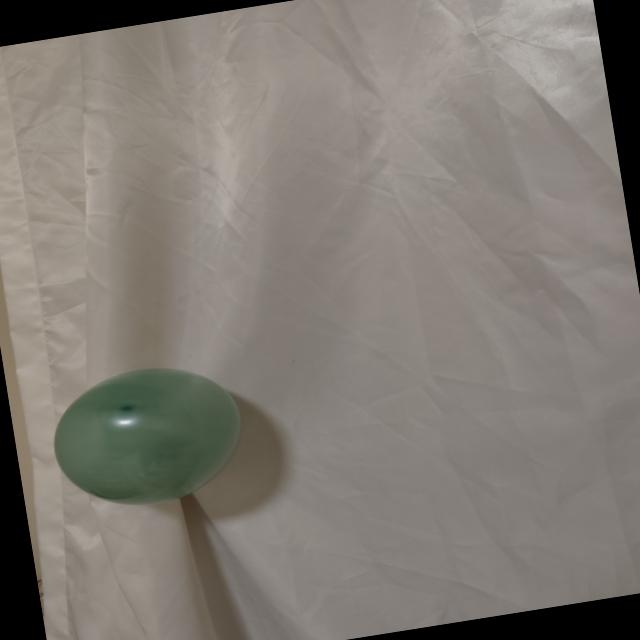balloon: (54, 369, 240, 504)
